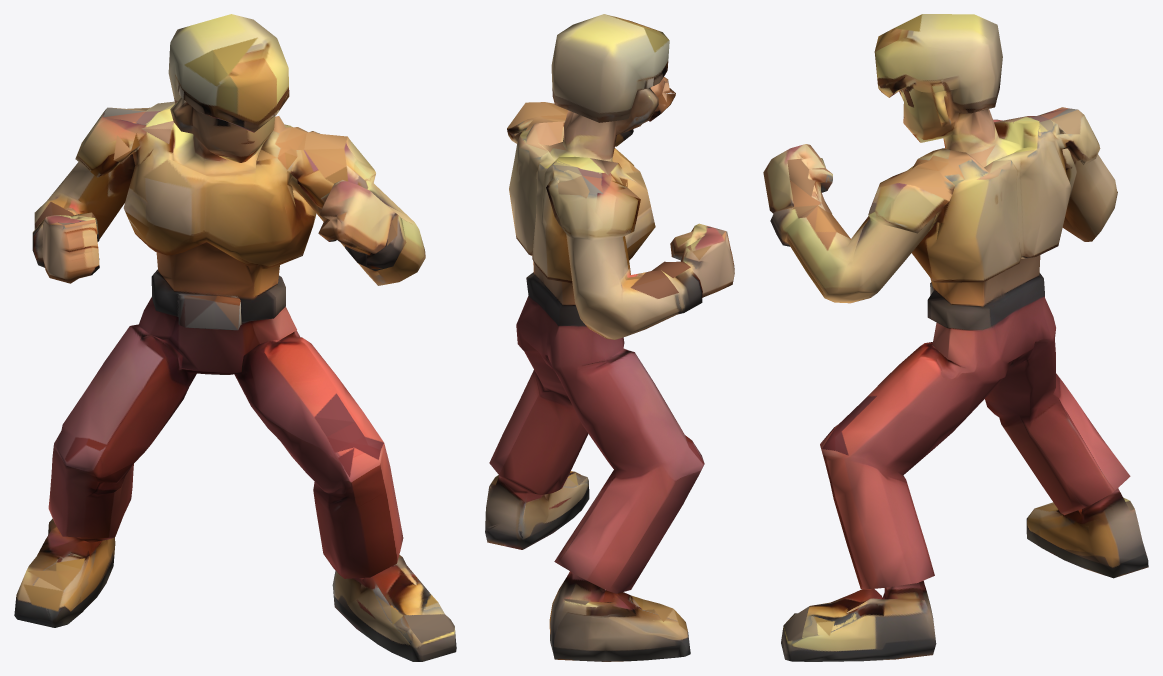
The model's file is tripo_fighter.glb.
The picture shows the model from 3 angles, left to right: view 1: azimuth 30°, elevation 25°; view 2: azimuth 150°, elevation 25°; view 3: azimuth 270°, elevation 25°; orthographic projection. The views are drawn at different scales.
Parts seen in each view (by area): view 1: tripo_node_c90bbedf-042b-4c5e-92d1-056b955f3228; view 2: tripo_node_c90bbedf-042b-4c5e-92d1-056b955f3228; view 3: tripo_node_c90bbedf-042b-4c5e-92d1-056b955f3228.
Part boxes in pixels (x1,y1,x2,y2): tripo_node_c90bbedf-042b-4c5e-92d1-056b955f3228: (14,14,456,661); tripo_node_c90bbedf-042b-4c5e-92d1-056b955f3228: (485,14,734,661); tripo_node_c90bbedf-042b-4c5e-92d1-056b955f3228: (763,14,1148,661).
Bounding box in the file's own units: 0.5385 × 1 × 0.6098.
Materials: 1 (1 with a texture image).
